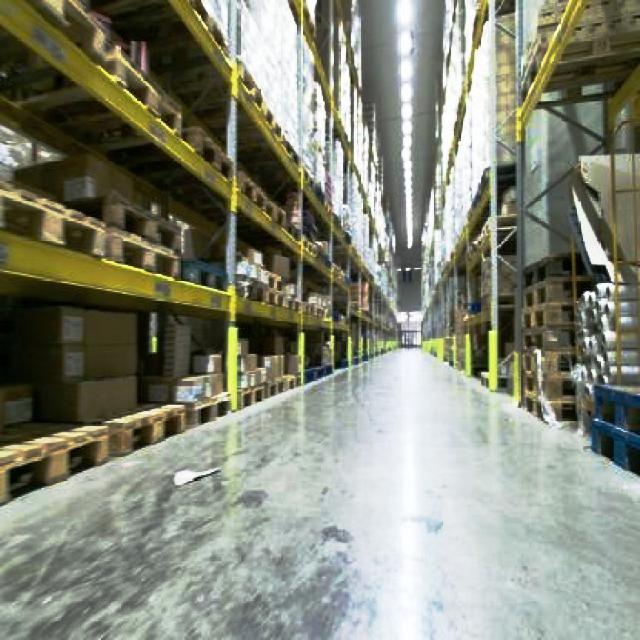ground: (0, 345, 638, 638)
pallet: (423, 0, 638, 638), (0, 354, 300, 535), (566, 146, 638, 497), (517, 269, 582, 420)
